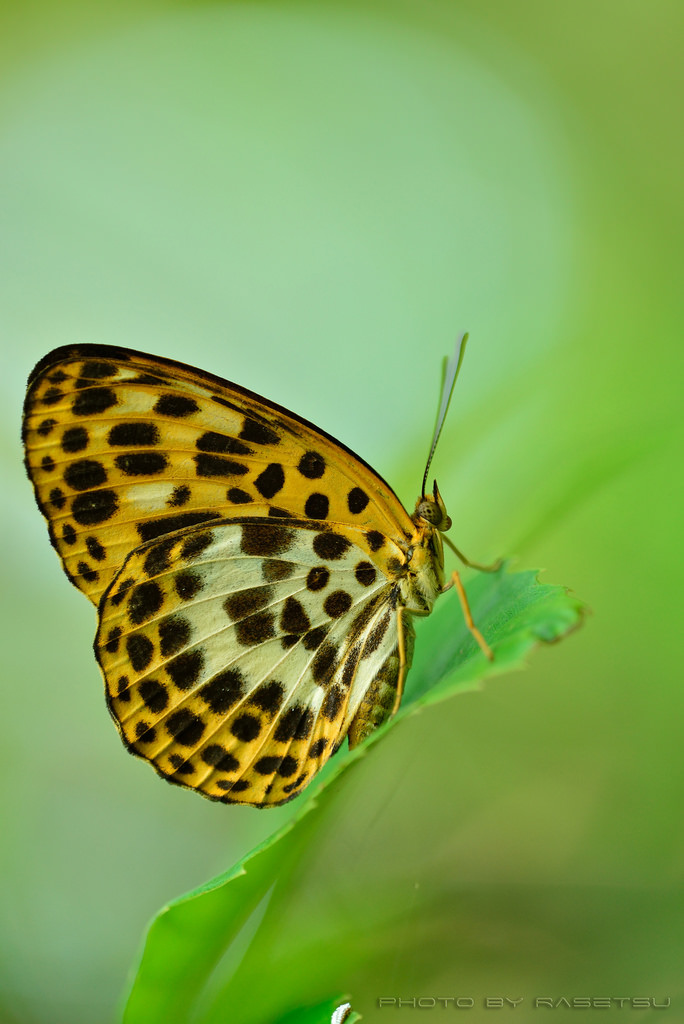Argyreus hyperbius: (12, 320, 514, 808)
butterfly: (14, 322, 516, 810)
